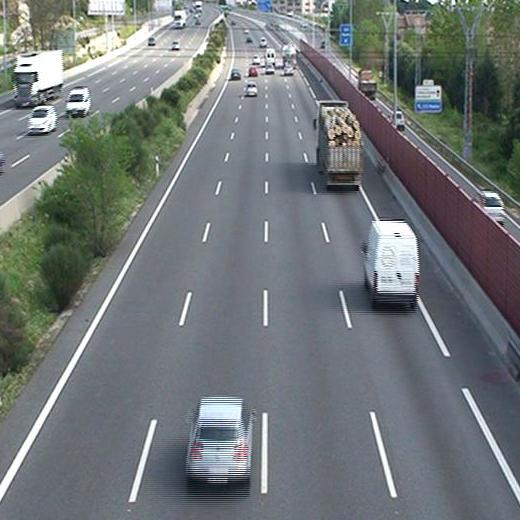car: (187, 400, 255, 485), (247, 82, 258, 98), (231, 69, 242, 81), (264, 63, 273, 74), (250, 66, 259, 77)
tank-truck: (284, 42, 297, 68)
truck: (312, 98, 363, 192)
van: (362, 217, 419, 313)
